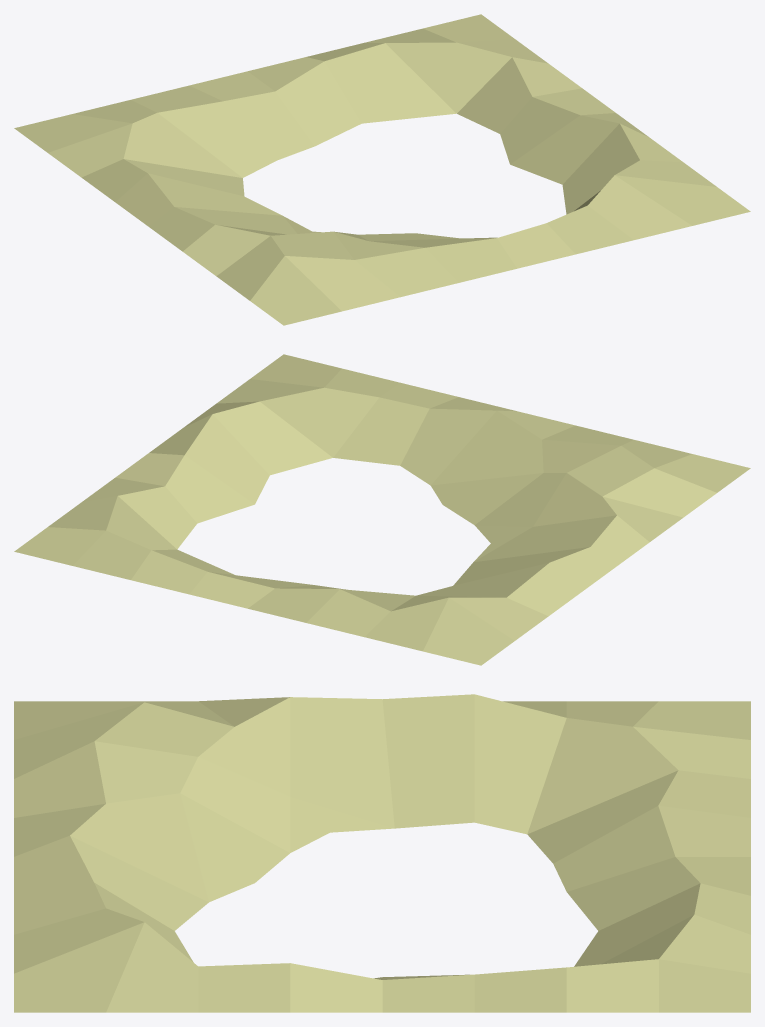
Rendered from Oasis.fbx.
3 renders of one model, top to bottom at view 1: azimuth 30°, elevation 25°; view 2: azimuth 150°, elevation 25°; view 3: azimuth 270°, elevation 25°, orthographic. The views are drawn at different scales.
Visible parts, largest first — view 1: Oasis; view 2: Oasis; view 3: Oasis.
Part boxes in pixels (bbox=[...]): Oasis: bbox=[14, 14, 750, 325]; Oasis: bbox=[14, 354, 750, 665]; Oasis: bbox=[14, 694, 750, 1012].
Bounding box in the file's own units: 1000 × 100 × 1000.
